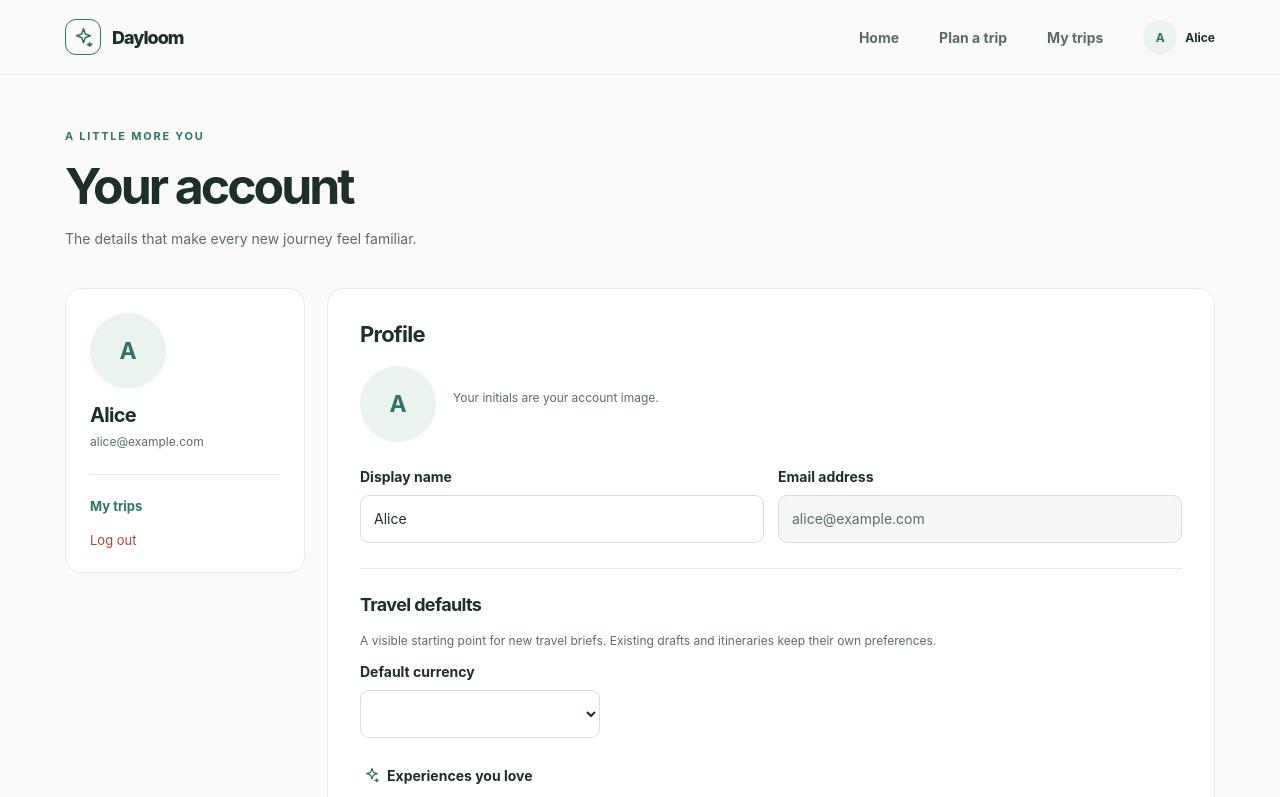
it: previews the edited profile name and initials in the sidebar before an explicit save
The width and height of the screenshot is (1280, 797).
Replace the text in the field labelled "Display name" with "Ada Lovelace" at (562, 519), box [360,495,764,543]
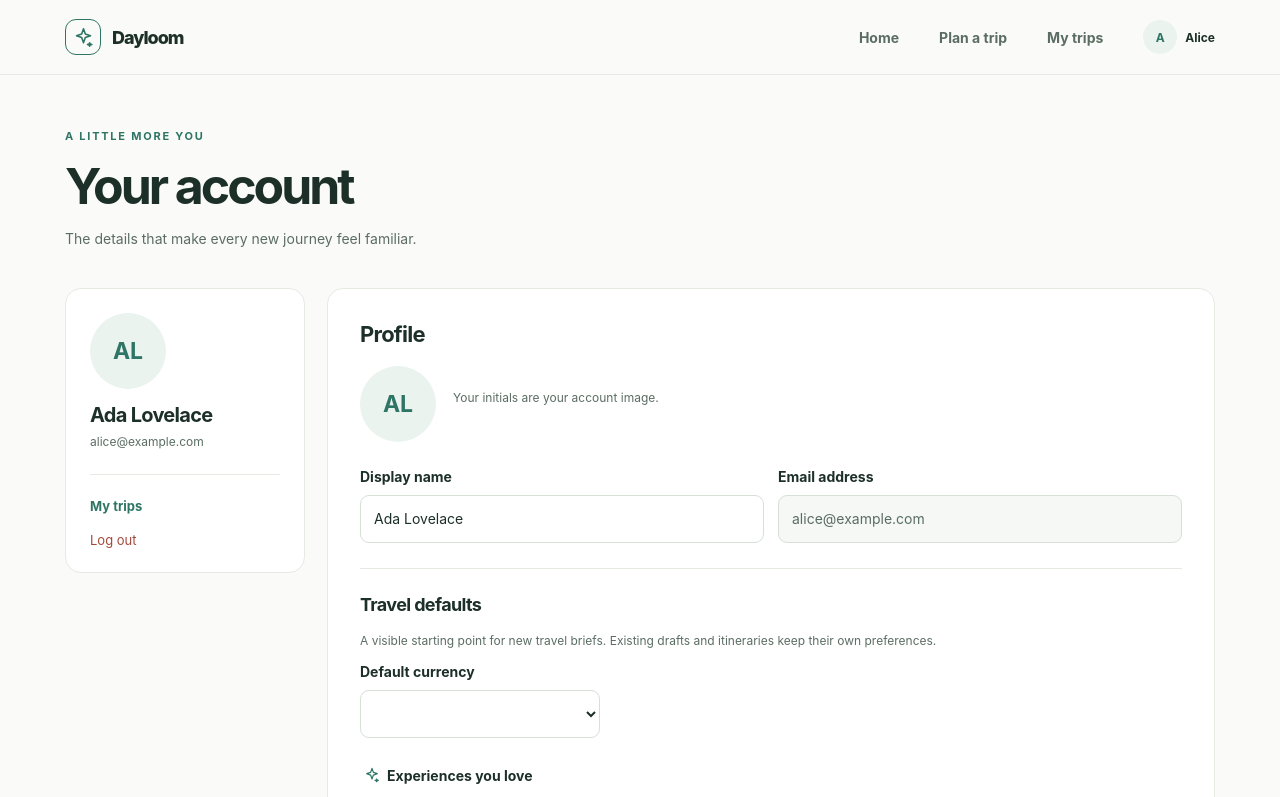
Expected: the heading "Ada Lovelace" is shown, [90,403,212,427]
Expected: the text named "Account initials: AL" is shown, [360,366,436,442]
